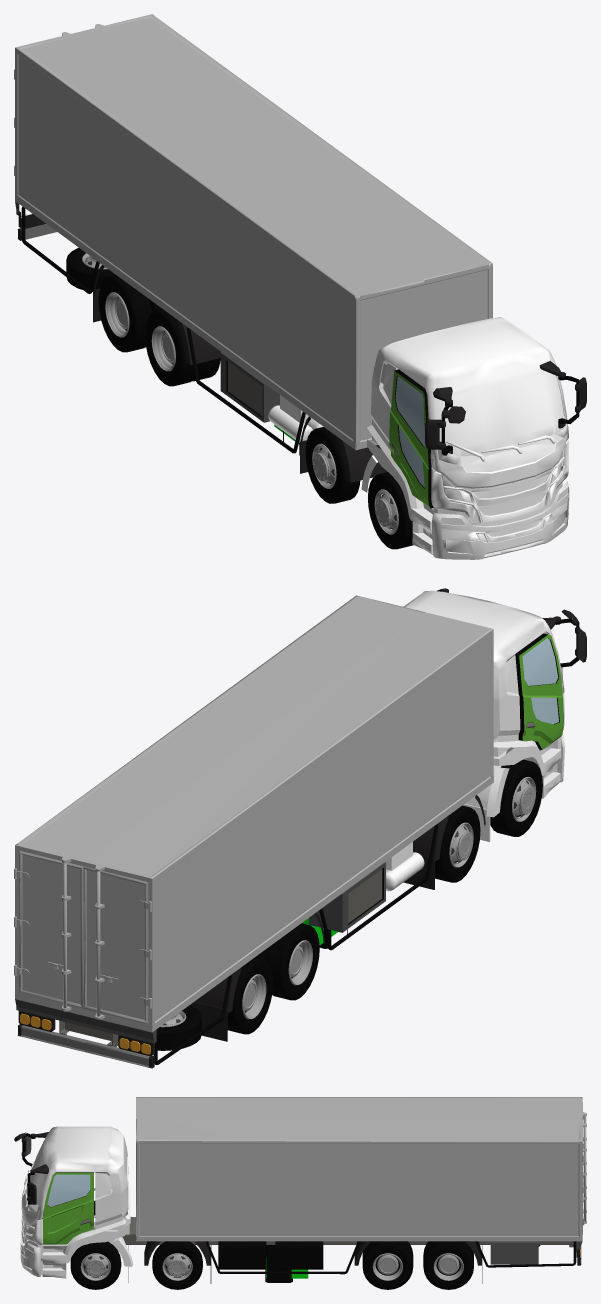
Rendered from tankDrain.gltf.
The picture shows the model from 3 angles, top to bottom: view 1: azimuth 30°, elevation 25°; view 2: azimuth 150°, elevation 25°; view 3: azimuth 270°, elevation 25°; orthographic projection. The views are drawn at different scales.
Visible parts, largest first — view 1: Truck_body_Truck_body.L, Truck_head_Truck_head.L, Truck_door.R, wheels_Circle, wheels_Circle.003, wheels_Circle.002, wheels_Circle.001, Truck_Toolbox1, Truck_backmirror.L, Truck_Brakesys, wheel_Circle.001, Truck_backmirror.R; view 2: Truck_body_Truck_body.L, Truck_head_Truck_head.L, Truck_door.R, wheels_Circle.003, wheels_Circle.001, wheels_Circle, wheels_Circle.002, Truck_Toolbox1, wheel_Circle.001, Truck_Brakesys, Truck_backmirror.L; view 3: Truck_body_Truck_body.L, Truck_head_Truck_head.L, Truck_door.L, wheels_Circle.003, wheels_Circle, wheels_Circle.002, wheels_Circle.001, Truck_Fueltank02, Truck_Fueltank01, Truck_Toolbox, Truck_Fueltank01.002, Truck_backmirror.L (+1 smaller).
Boxes of the visible parts, <box> form: Truck_body_Truck_body.L: <box>14,14,492,482</box>; Truck_head_Truck_head.L: <box>361,317,569,559</box>; Truck_door.R: <box>389,369,433,508</box>; wheels_Circle: <box>98,275,162,352</box>; wheels_Circle.003: <box>145,309,220,386</box>; wheels_Circle.002: <box>305,427,360,503</box>; wheels_Circle.001: <box>368,472,413,549</box>; Truck_Toolbox1: <box>220,352,279,422</box>; Truck_backmirror.L: <box>425,387,465,455</box>; Truck_Brakesys: <box>268,395,323,442</box>; wheel_Circle.001: <box>66,247,116,291</box>; Truck_backmirror.R: <box>539,361,586,428</box>; Truck_body_Truck_body.L: <box>14,595,493,1068</box>; Truck_head_Truck_head.L: <box>403,590,564,841</box>; Truck_door.R: <box>515,633,563,749</box>; wheels_Circle.003: <box>255,923,319,1000</box>; wheels_Circle.001: <box>490,759,542,836</box>; wheels_Circle: <box>227,957,273,1034</box>; wheels_Circle.002: <box>435,805,480,882</box>; Truck_Toolbox1: <box>309,862,385,932</box>; wheel_Circle.001: <box>156,1005,201,1050</box>; Truck_Brakesys: <box>385,842,424,891</box>; Truck_backmirror.L: <box>542,609,586,667</box>; Truck_body_Truck_body.L: <box>122,1097,586,1283</box>; Truck_head_Truck_head.L: <box>20,1126,133,1283</box>; Truck_door.L: <box>42,1172,93,1244</box>; wheels_Circle.003: <box>362,1241,413,1289</box>; wheels_Circle: <box>423,1241,473,1289</box>; wheels_Circle.002: <box>152,1241,202,1289</box>; wheels_Circle.001: <box>70,1200,121,1289</box>; Truck_Fueltank02: <box>275,1241,323,1269</box>; Truck_Fueltank01: <box>218,1241,266,1269</box>; Truck_Toolbox: <box>490,1241,538,1264</box>; Truck_Fueltank01.002: <box>265,1245,292,1282</box>; Truck_backmirror.L: <box>14,1132,48,1169</box>.
Size of the model in its own units: 1.98 by 2.78 by 9.04.
